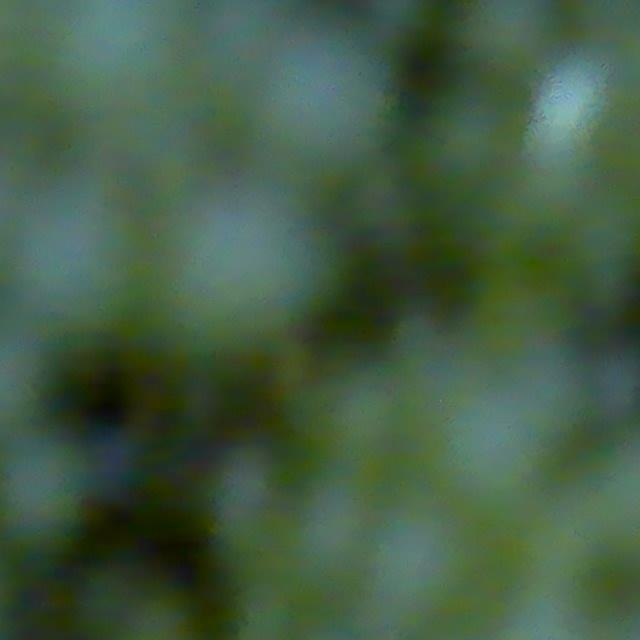SeaGrape: (172, 176, 328, 357), (48, 0, 203, 138), (242, 19, 381, 165), (32, 206, 151, 341), (360, 499, 483, 623), (0, 437, 103, 542), (524, 61, 614, 168), (454, 0, 559, 72), (205, 445, 284, 527)
